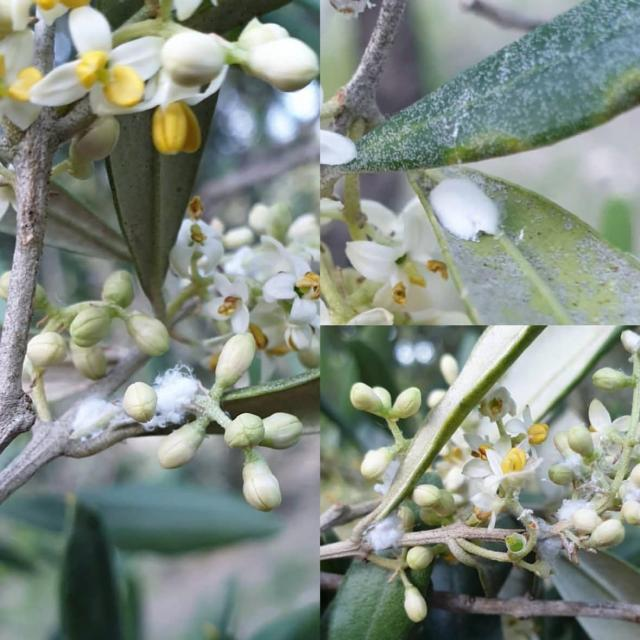Psyllid: (548, 400, 640, 551), (65, 364, 208, 456), (429, 175, 502, 241), (365, 505, 413, 554)
